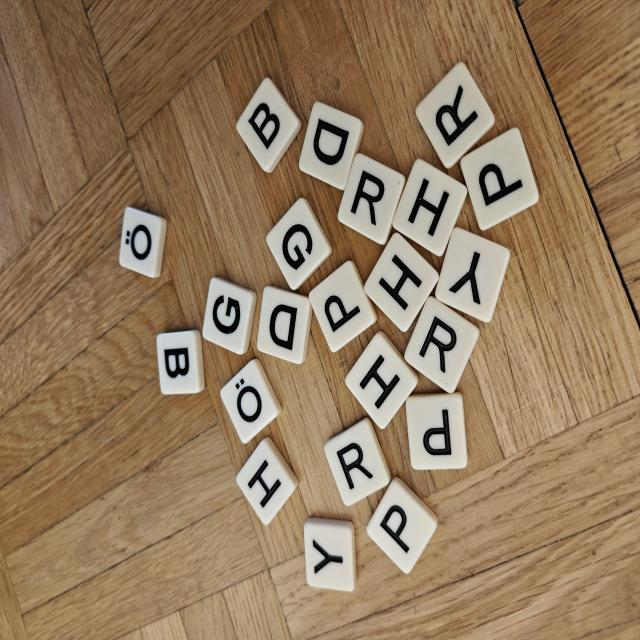b: (236, 78, 301, 172), (157, 330, 205, 394)
d: (299, 102, 363, 190), (257, 286, 312, 364)
g: (266, 198, 332, 290), (202, 278, 257, 354)
h: (364, 232, 439, 332), (392, 159, 467, 256), (346, 331, 419, 429), (236, 437, 298, 525)
o_dot: (221, 359, 281, 443), (119, 207, 167, 278)
p: (460, 128, 539, 230), (367, 477, 437, 573), (309, 261, 377, 352), (406, 392, 467, 470)
r: (415, 62, 495, 168), (404, 298, 479, 393), (338, 153, 405, 244), (324, 418, 391, 505)
y: (435, 228, 510, 322), (304, 518, 356, 591)
